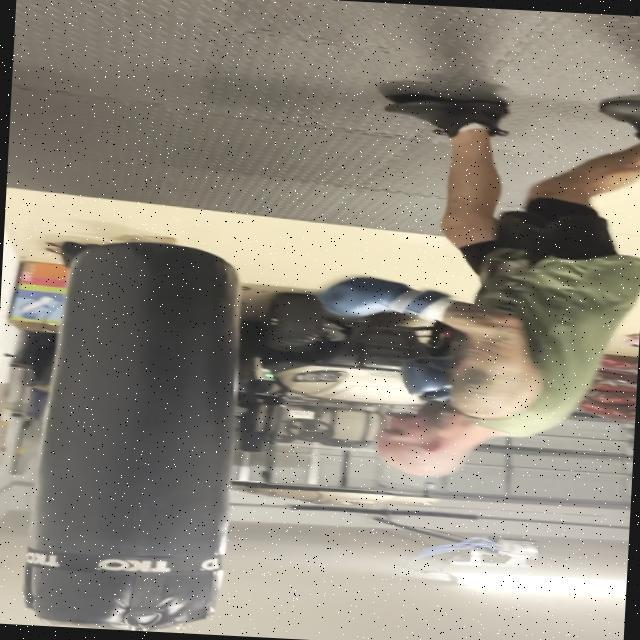bag: (29, 235, 252, 636)
uppercut: (300, 264, 626, 490)
